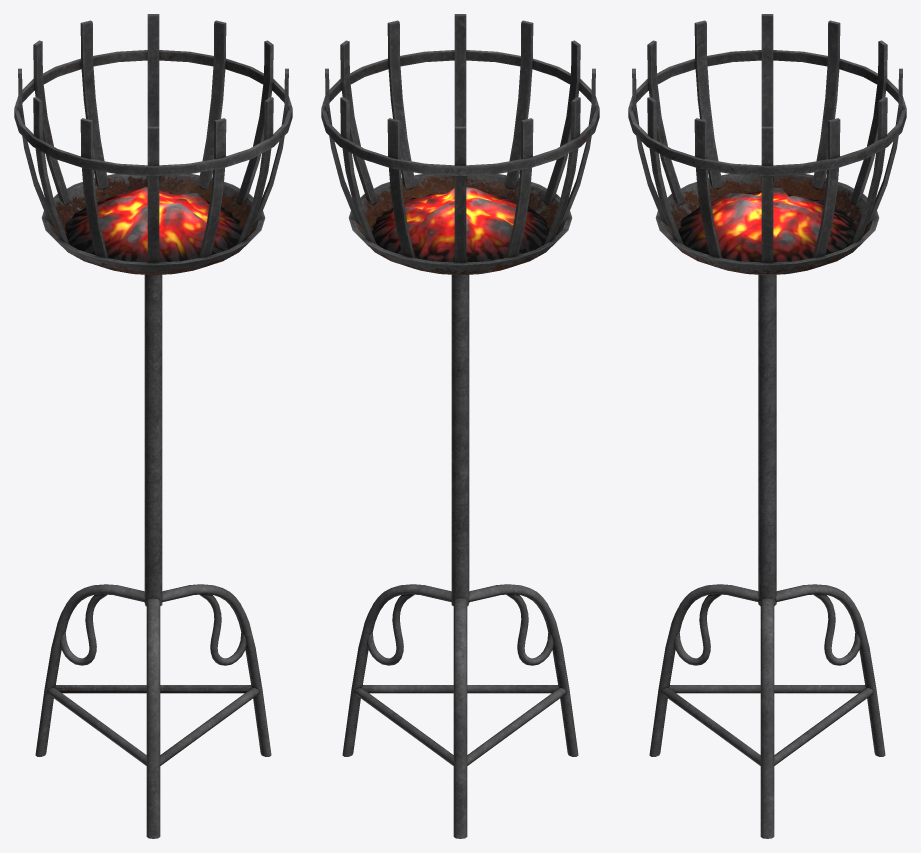
File: SM_Torch2.fbx
3 views of the same model, side by side, from view 1: azimuth 30°, elevation 25°; view 2: azimuth 150°, elevation 25°; view 3: azimuth 270°, elevation 25° (orthographic).
Parts seen in each view (by area): view 1: SM_Torch2_LOD0; view 2: SM_Torch2_LOD0; view 3: SM_Torch2_LOD0.
Boxes of the visible parts, bbox=[...] form: SM_Torch2_LOD0: bbox=[14, 14, 292, 838]; SM_Torch2_LOD0: bbox=[321, 14, 599, 838]; SM_Torch2_LOD0: bbox=[628, 14, 906, 838].
Size of the model in its own units: 71.02 by 71.02 by 200.
Materials: 1 (1 with a texture image).
